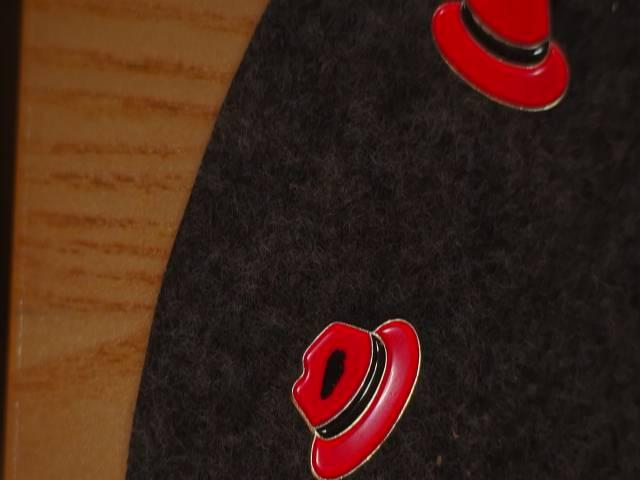Red-Hat: (269, 294, 443, 480), (404, 0, 591, 143)
Scratch: (315, 332, 358, 409)
